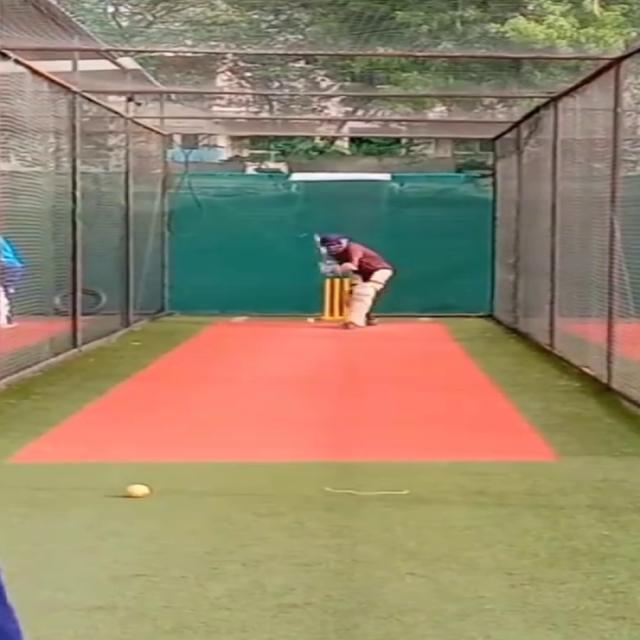ball: (122, 482, 149, 499)
stump: (319, 278, 347, 321)
